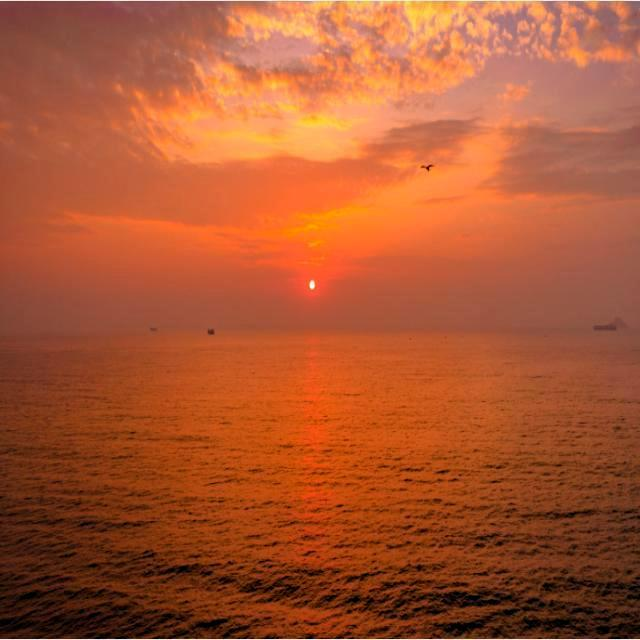bird: (416, 160, 439, 180)
